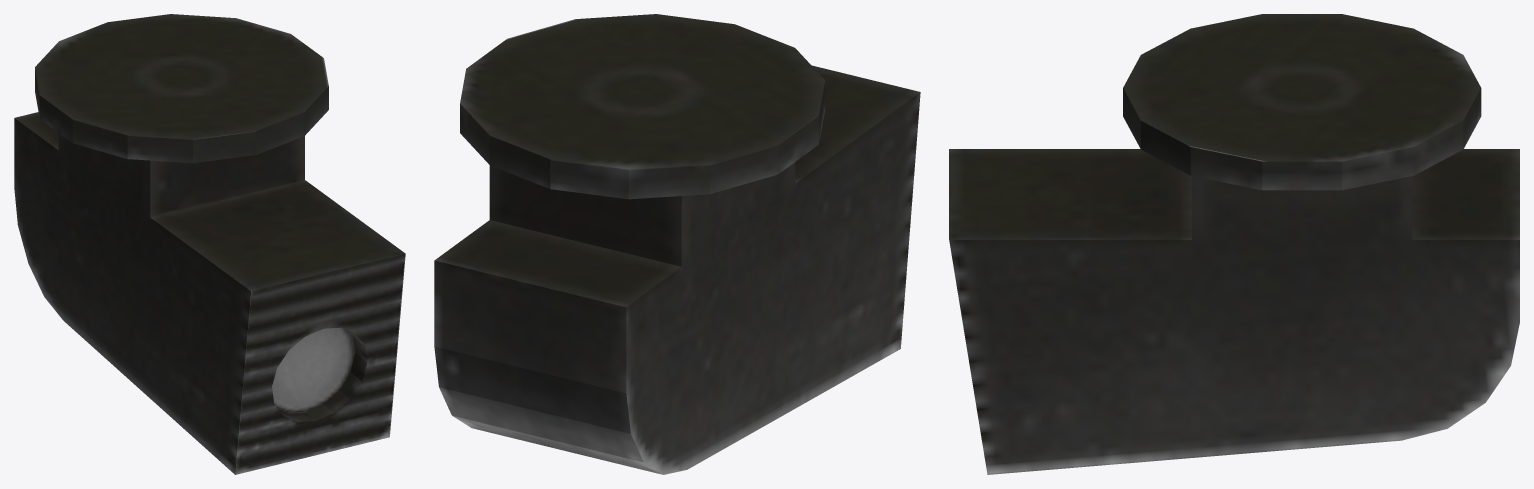
3 views of the same model, side by side, from view 1: azimuth 30°, elevation 25°; view 2: azimuth 150°, elevation 25°; view 3: azimuth 270°, elevation 25° (orthographic). The views are drawn at different scales.
Parts seen in each view (by area): view 1: TW_60228a76d62c9b14ed777a66_PZ_Import; view 2: TW_60228a76d62c9b14ed777a66_PZ_Import; view 3: TW_60228a76d62c9b14ed777a66_PZ_Import.
Boxes of the visible parts, left/top/right/bottom form: TW_60228a76d62c9b14ed777a66_PZ_Import: left=14, top=14, right=405, bottom=474; TW_60228a76d62c9b14ed777a66_PZ_Import: left=434, top=14, right=920, bottom=474; TW_60228a76d62c9b14ed777a66_PZ_Import: left=949, top=14, right=1519, bottom=474.
Size of the model in its own units: 0.00385 by 0.00629 by 0.00416.
Materials: 1 (1 with a texture image).
